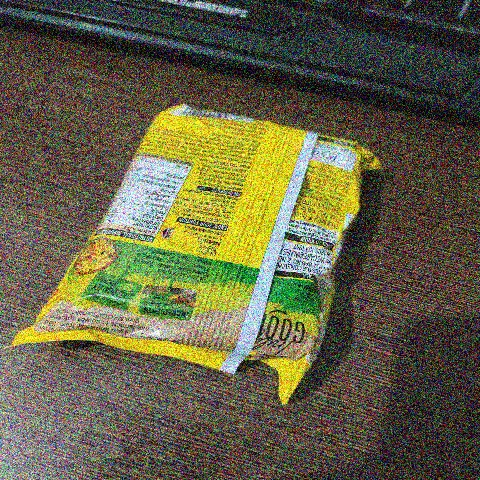maggi: (11, 73, 382, 407)
